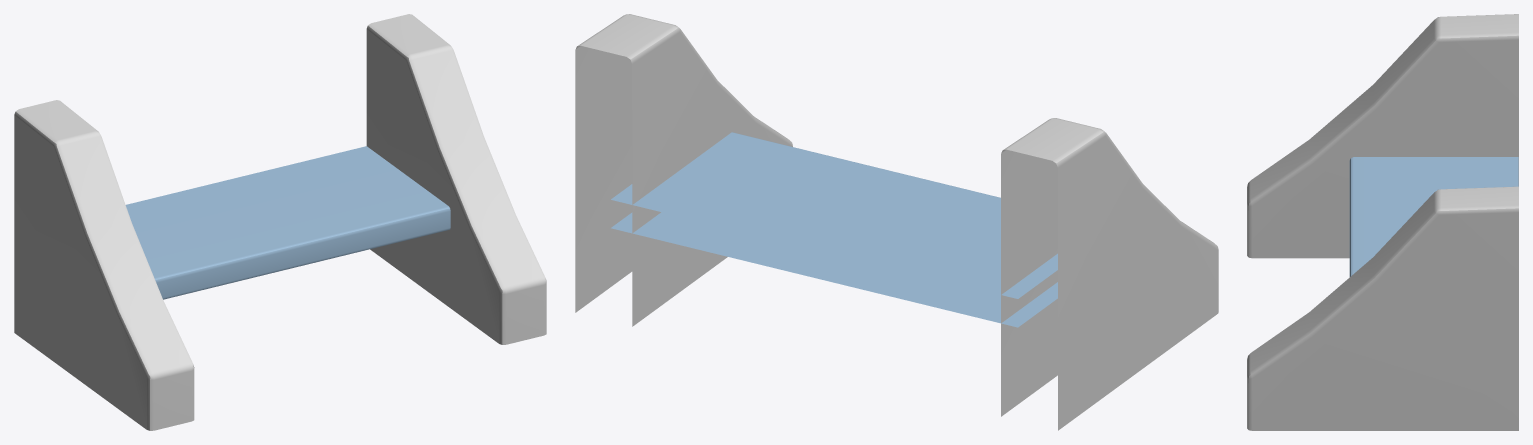
The model's file is Table1.fbx.
3 views of the same model, side by side, from view 1: azimuth 30°, elevation 25°; view 2: azimuth 150°, elevation 25°; view 3: azimuth 270°, elevation 25° (orthographic). The views are drawn at different scales.
Visible parts, largest first — view 1: Table1; view 2: Table1; view 3: Table1.
Boxes of the visible parts, left/top/right/bottom form: Table1: left=14, top=14, right=546, bottom=430; Table1: left=575, top=14, right=1218, bottom=430; Table1: left=1247, top=14, right=1518, bottom=430.
Size of the model in its own units: 4.49 by 2.39 by 2.63.
